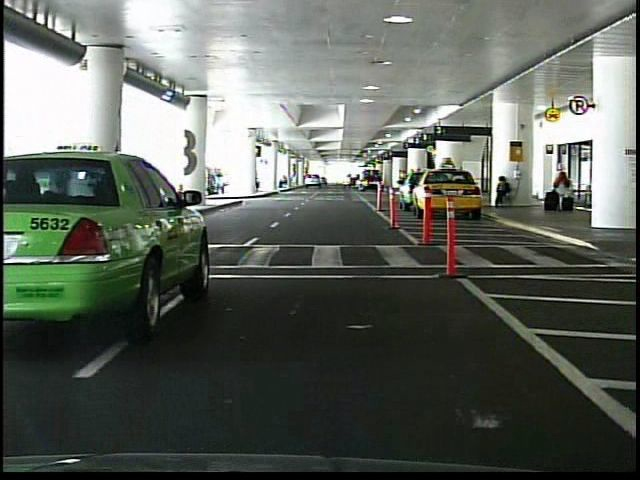person: (42, 146, 69, 231), (553, 164, 575, 213), (492, 174, 513, 208)
